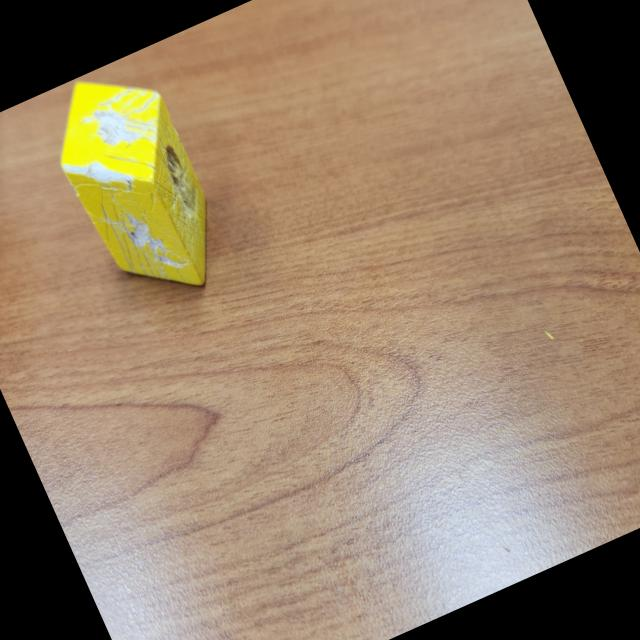broken: (32, 52, 238, 318)
